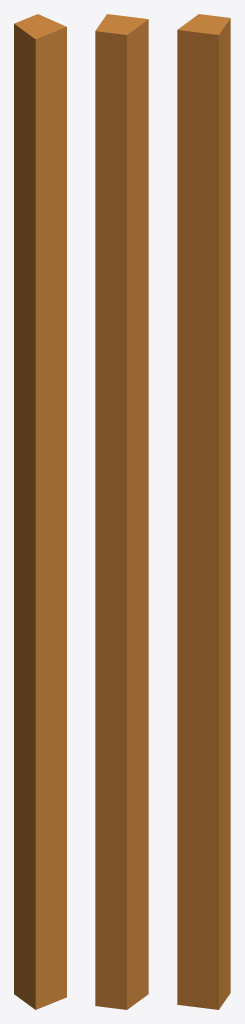
3 views of the same model, side by side, from view 1: azimuth 30°, elevation 25°; view 2: azimuth 150°, elevation 25°; view 3: azimuth 330°, elevation 25° (orthographic).
Parts seen in each view (by area): view 1: CORNER-A-24-p2; view 2: CORNER-A-24-p2; view 3: CORNER-A-24-p2.
Part boxes in pixels (bbox=[...]): CORNER-A-24-p2: bbox=[14, 14, 66, 1009]; CORNER-A-24-p2: bbox=[95, 14, 148, 1009]; CORNER-A-24-p2: bbox=[177, 14, 230, 1009].
Bounding box in the file's own units: 0.09 × 2.29 × 0.1092.
